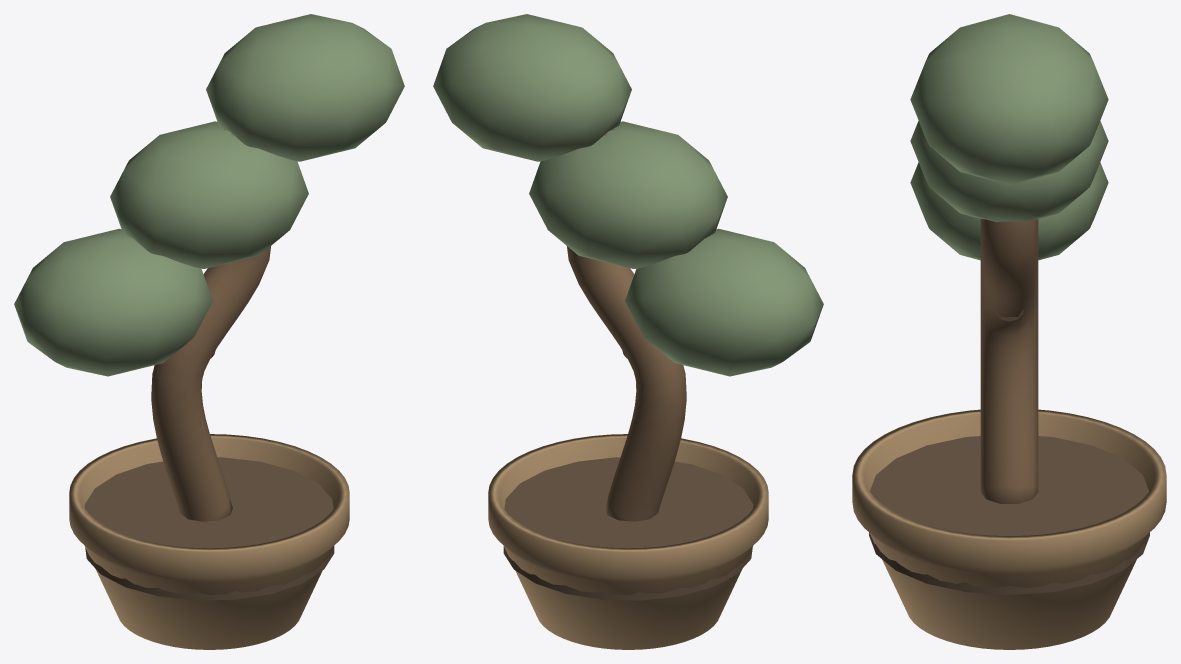
Rendered from bonsai.glb.
3 renders of one model, left to right at view 1: azimuth 30°, elevation 25°; view 2: azimuth 150°, elevation 25°; view 3: azimuth 270°, elevation 25°, orthographic. The views are drawn at different scales.
Visible parts, largest first — view 1: planter-hollow-vessel, foliage-pad-2, foliage-pad-0, foliage-pad-1, planter-contained-soil, bent-bonsai-trunk; view 2: planter-hollow-vessel, foliage-pad-2, foliage-pad-0, foliage-pad-1, planter-contained-soil, bent-bonsai-trunk; view 3: planter-hollow-vessel, foliage-pad-2, planter-contained-soil, bent-bonsai-trunk, foliage-pad-1, foliage-pad-0.
Boxes of the visible parts, left/top/right/bottom form: planter-hollow-vessel: left=69, top=434, right=349, bottom=649; foliage-pad-2: left=206, top=14, right=404, bottom=161; foliage-pad-0: left=14, top=228, right=212, bottom=376; foliage-pad-1: left=110, top=121, right=308, bottom=268; planter-contained-soil: left=84, top=457, right=334, bottom=600; bent-bonsai-trunk: left=151, top=129, right=270, bottom=521; planter-hollow-vessel: left=488, top=434, right=768, bottom=649; foliage-pad-2: left=433, top=14, right=631, bottom=161; foliage-pad-0: left=625, top=228, right=823, bottom=376; foliage-pad-1: left=529, top=121, right=727, bottom=268; planter-contained-soil: left=503, top=457, right=753, bottom=600; bent-bonsai-trunk: left=567, top=129, right=686, bottom=521; planter-hollow-vessel: left=852, top=409, right=1166, bottom=649; foliage-pad-2: left=910, top=14, right=1108, bottom=185; planter-contained-soil: left=869, top=436, right=1149, bottom=594; bent-bonsai-trunk: left=980, top=219, right=1038, bottom=503; foliage-pad-1: left=910, top=121, right=1108, bottom=222; foliage-pad-0: left=910, top=162, right=1108, bottom=260.
Size of the model in its own units: 0.488 by 0.7071 by 0.3197.
